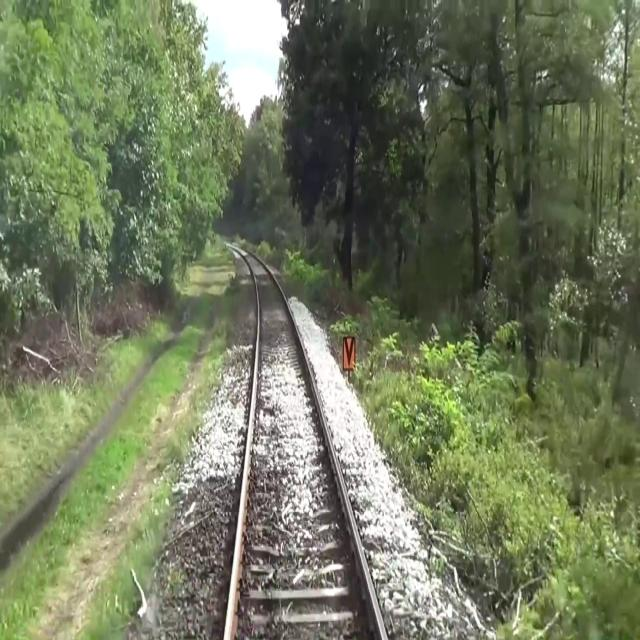rail-track: (228, 245, 382, 639)
